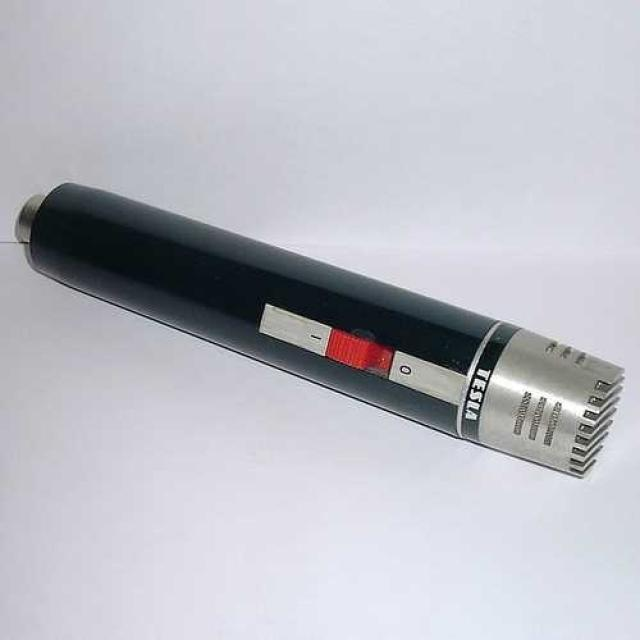microphone: (19, 187, 615, 477)
